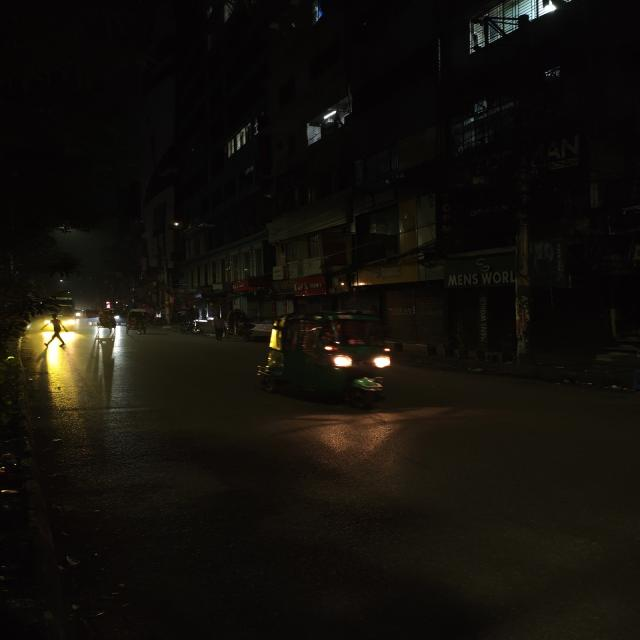cng: (178, 319, 202, 336)
pedestrian: (44, 316, 69, 352), (208, 314, 228, 342)
rickshaw: (253, 310, 406, 413), (225, 308, 258, 342), (126, 308, 152, 336), (97, 308, 118, 334)
